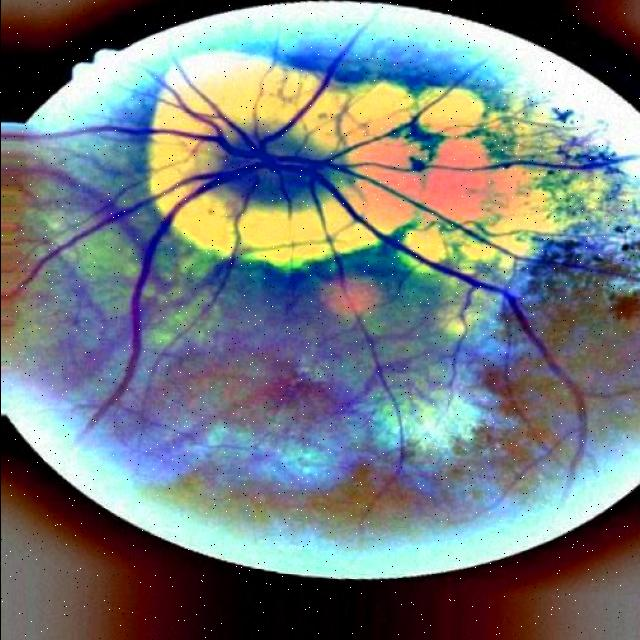Macula: (232, 347, 335, 443)
Nerves: (257, 155, 449, 431), (3, 22, 373, 161), (94, 163, 251, 419)
Optic Disk: (147, 54, 385, 259)
